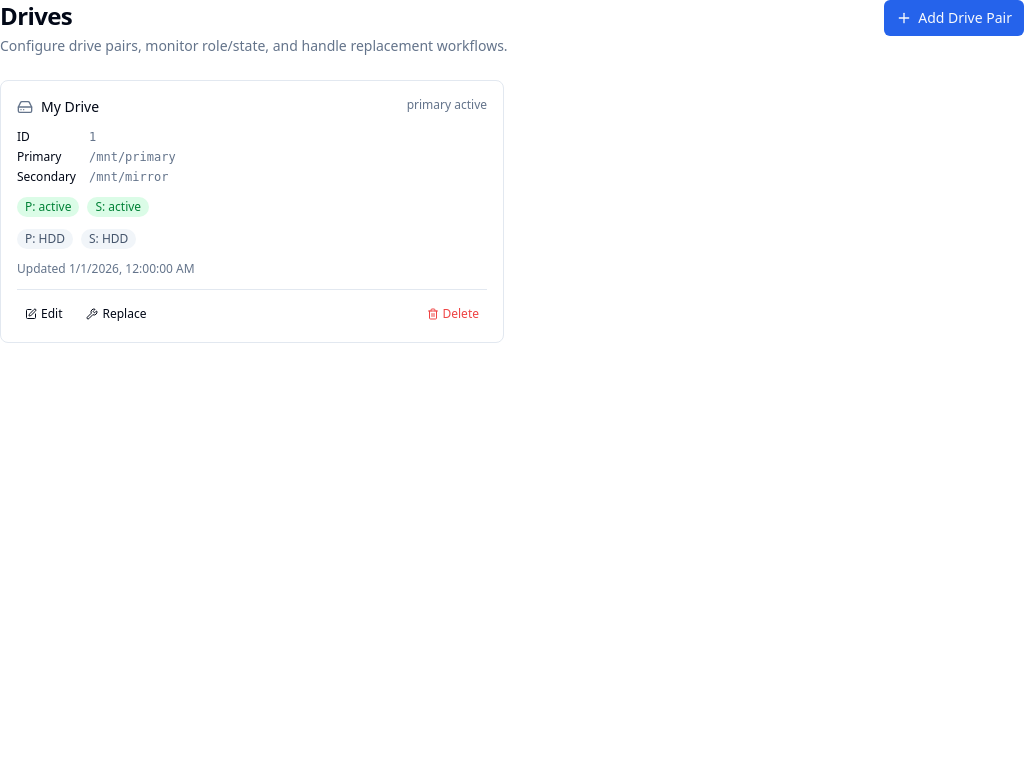
Test: DrivesPage › opens edit form when edit button is clicked
Expected: the heading "My Drive" is shown, [41, 97, 99, 117]
Click the button with test id "edit-drive-1" at (44, 314), box [17, 302, 70, 326]
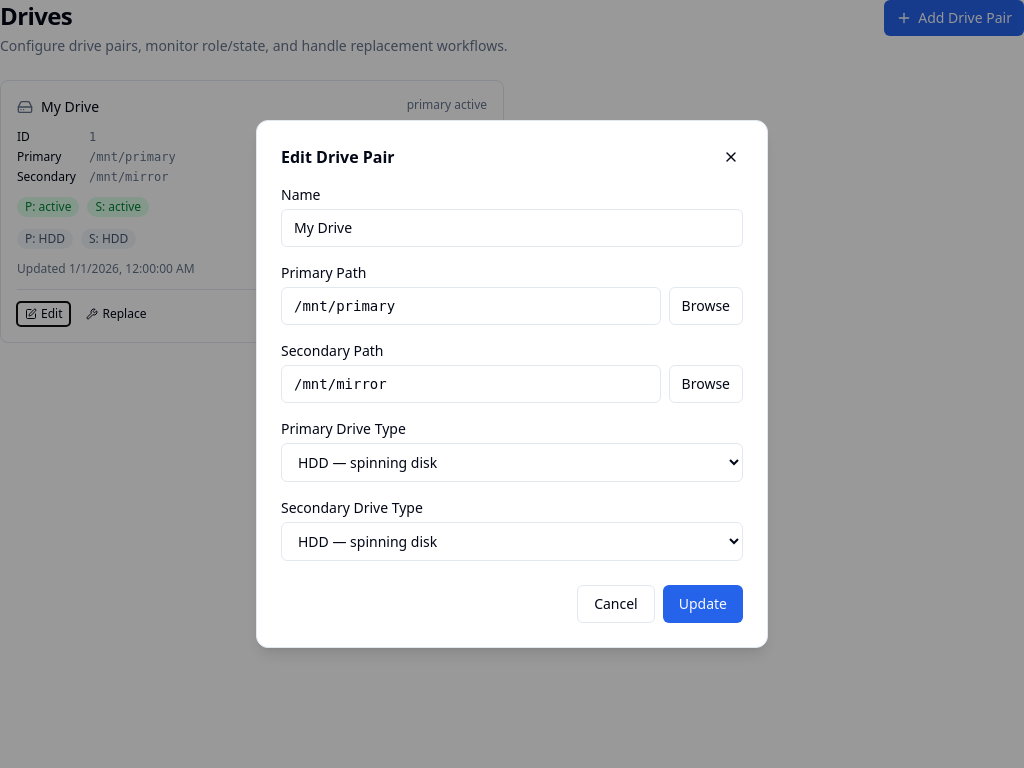
Expected: the element with test id "modal-overlay" is shown
Expected: the field with test id "drive-name-input" is shown, [281, 209, 743, 247]
